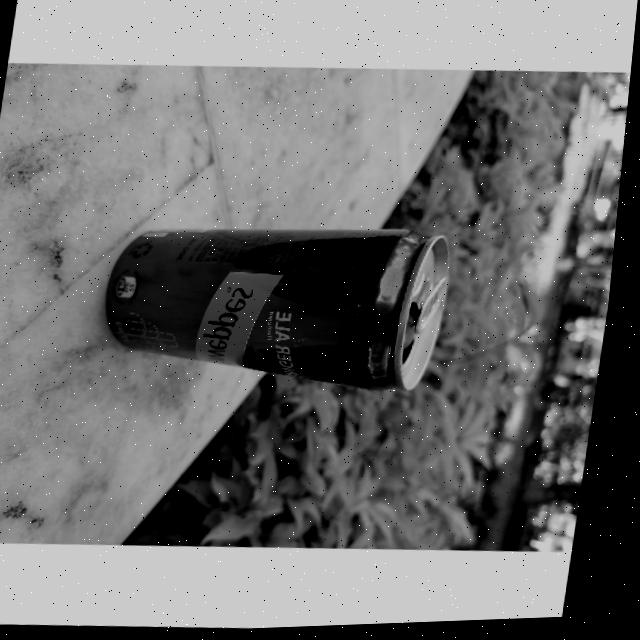Schweppes: (98, 205, 459, 405)
